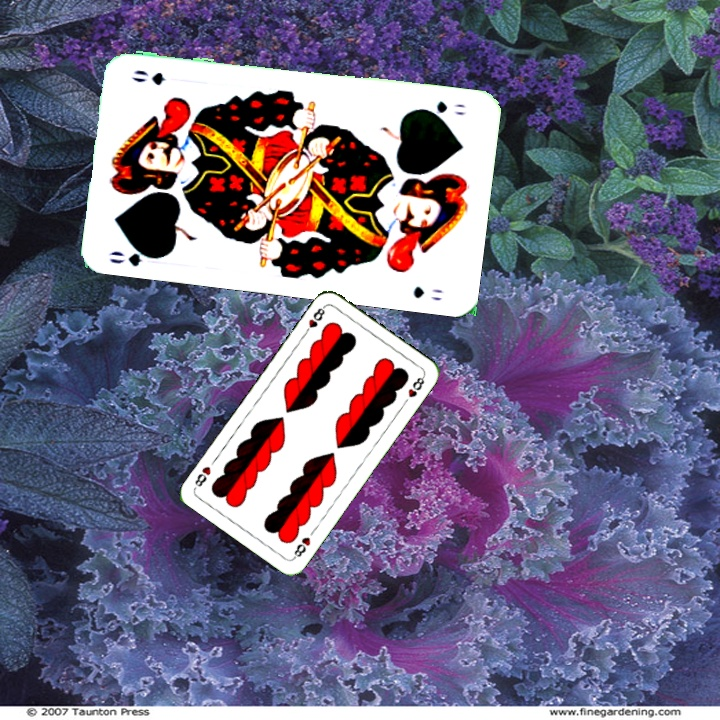GO: (105, 242, 164, 269), (415, 97, 467, 119)
H8: (300, 302, 328, 338), (289, 533, 313, 561)
